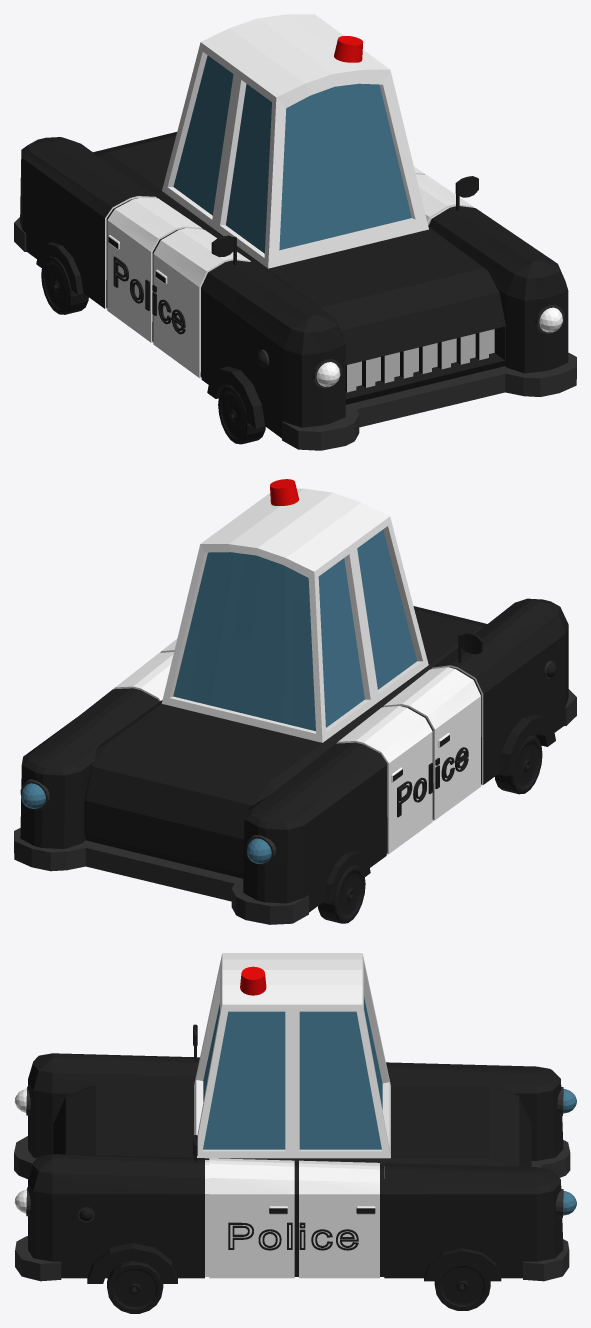
File: bb5d40b9-53aa-45ec-aece-1b7984b9aec9.glb
The picture shows the model from 3 angles, top to bottom: view 1: azimuth 30°, elevation 25°; view 2: azimuth 150°, elevation 25°; view 3: azimuth 270°, elevation 25°; orthographic projection. The views are drawn at different scales.
Visible parts, largest first — view 1: Object003; view 2: Object003; view 3: Object003.
Boxes of the visible parts, x1=… form: Object003: x1=14, y1=14, x2=576, y2=450; Object003: x1=14, y1=479, x2=576, y2=924; Object003: x1=14, y1=953, x2=576, y2=1313.
Bounding box in the file's own units: 36.21 × 35.78 × 63.04.
